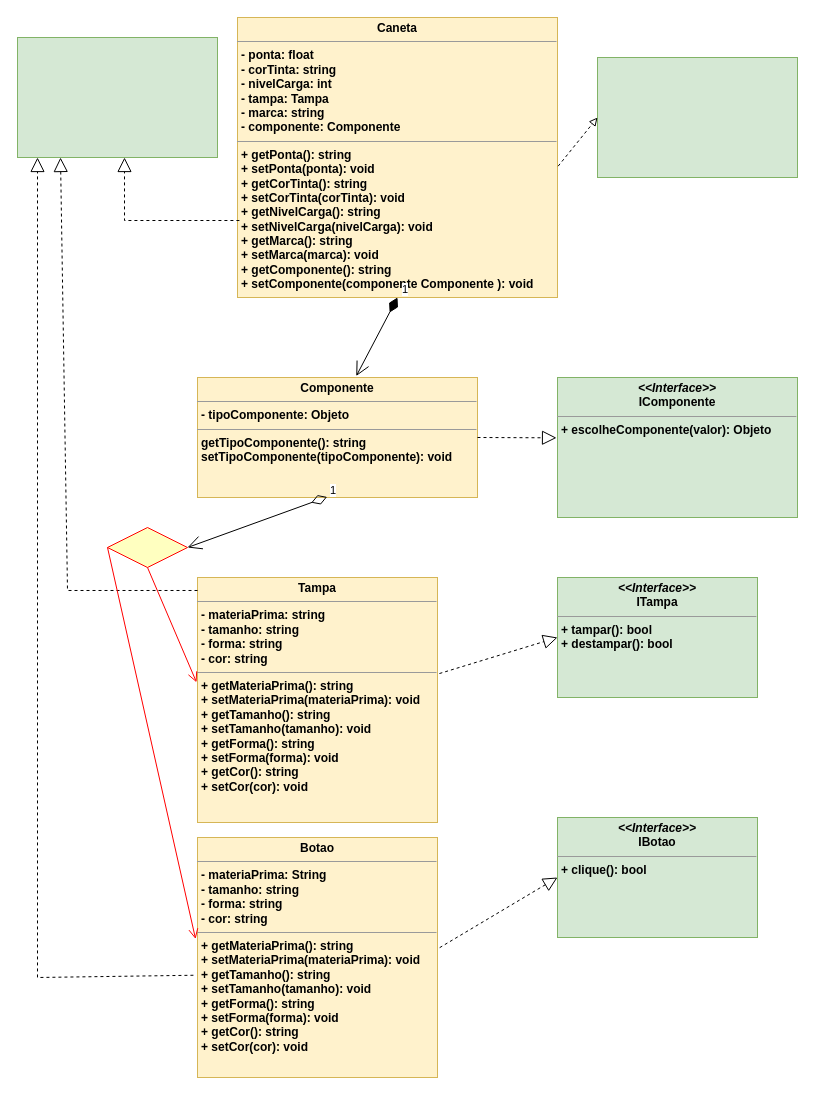
Image size: 815x1095. Some labels were removed from this diagram. Each missing label, with the box of its shape:
<<Interface>> Icaneta + escrever(): boolean: (596, 56, 798, 178)
<<Interface>> IVerificador + verificaAtributo(valor): boolean: (16, 36, 218, 158)
SWITCH: (106, 526, 188, 568)
